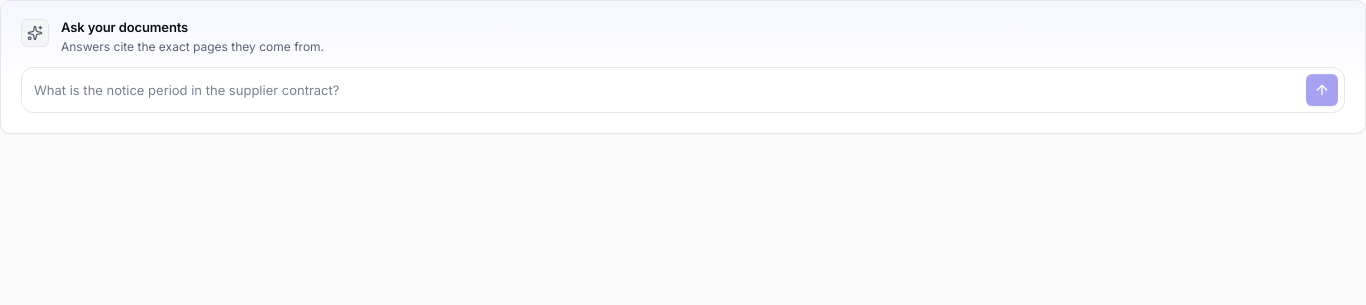
documents › shows the extractive (policy) badge and clickable citations from a JSON answer
The width and height of the screenshot is (1366, 305).
Later steps or results of the test are not shown.
Type "notice period" into the field named "Question about your documents" at (666, 90), box [34,74,1298,106]
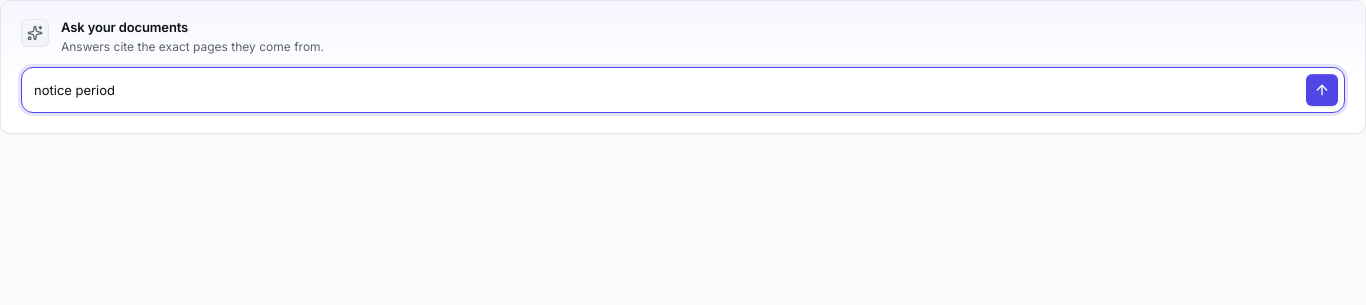
Click the button named "Ask" at (1322, 90), box [1306,74,1338,106]
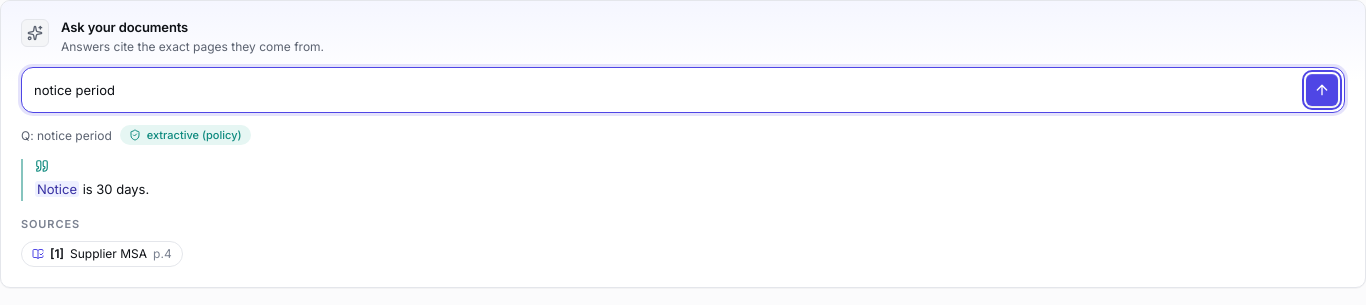
Expected: the text "extractive (policy)" is shown, [120,125,251,145]
